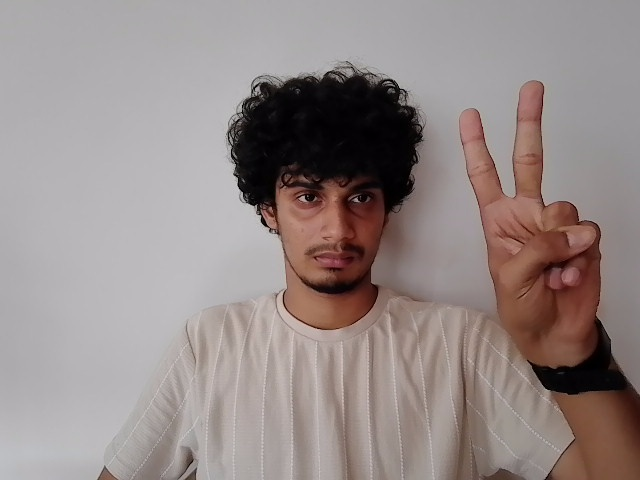travel: (452, 74, 631, 347)
